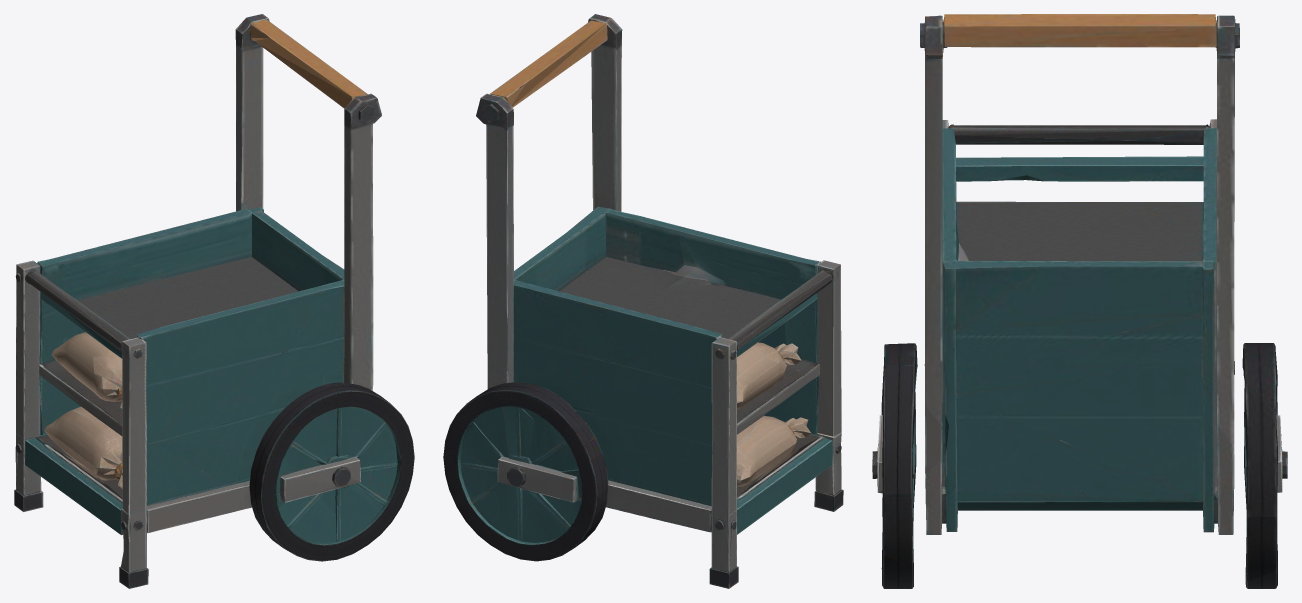
File: flourCart.glb
The picture shows the model from 3 angles, left to right: view 1: azimuth 30°, elevation 25°; view 2: azimuth 150°, elevation 25°; view 3: azimuth 270°, elevation 25°; orthographic projection. The views are drawn at different scales.
Parts seen in each view (by area): view 1: Mesh_0; view 2: Mesh_0; view 3: Mesh_0.
Boxes of the visible parts, left/top/right/bottom form: Mesh_0: left=14, top=14, right=414, bottom=588; Mesh_0: left=443, top=14, right=843, bottom=588; Mesh_0: left=872, top=14, right=1287, bottom=588.
Bounding box in the file's own units: 0.5 × 0.7703 × 0.4925.
Materials: 1 (1 with a texture image).
